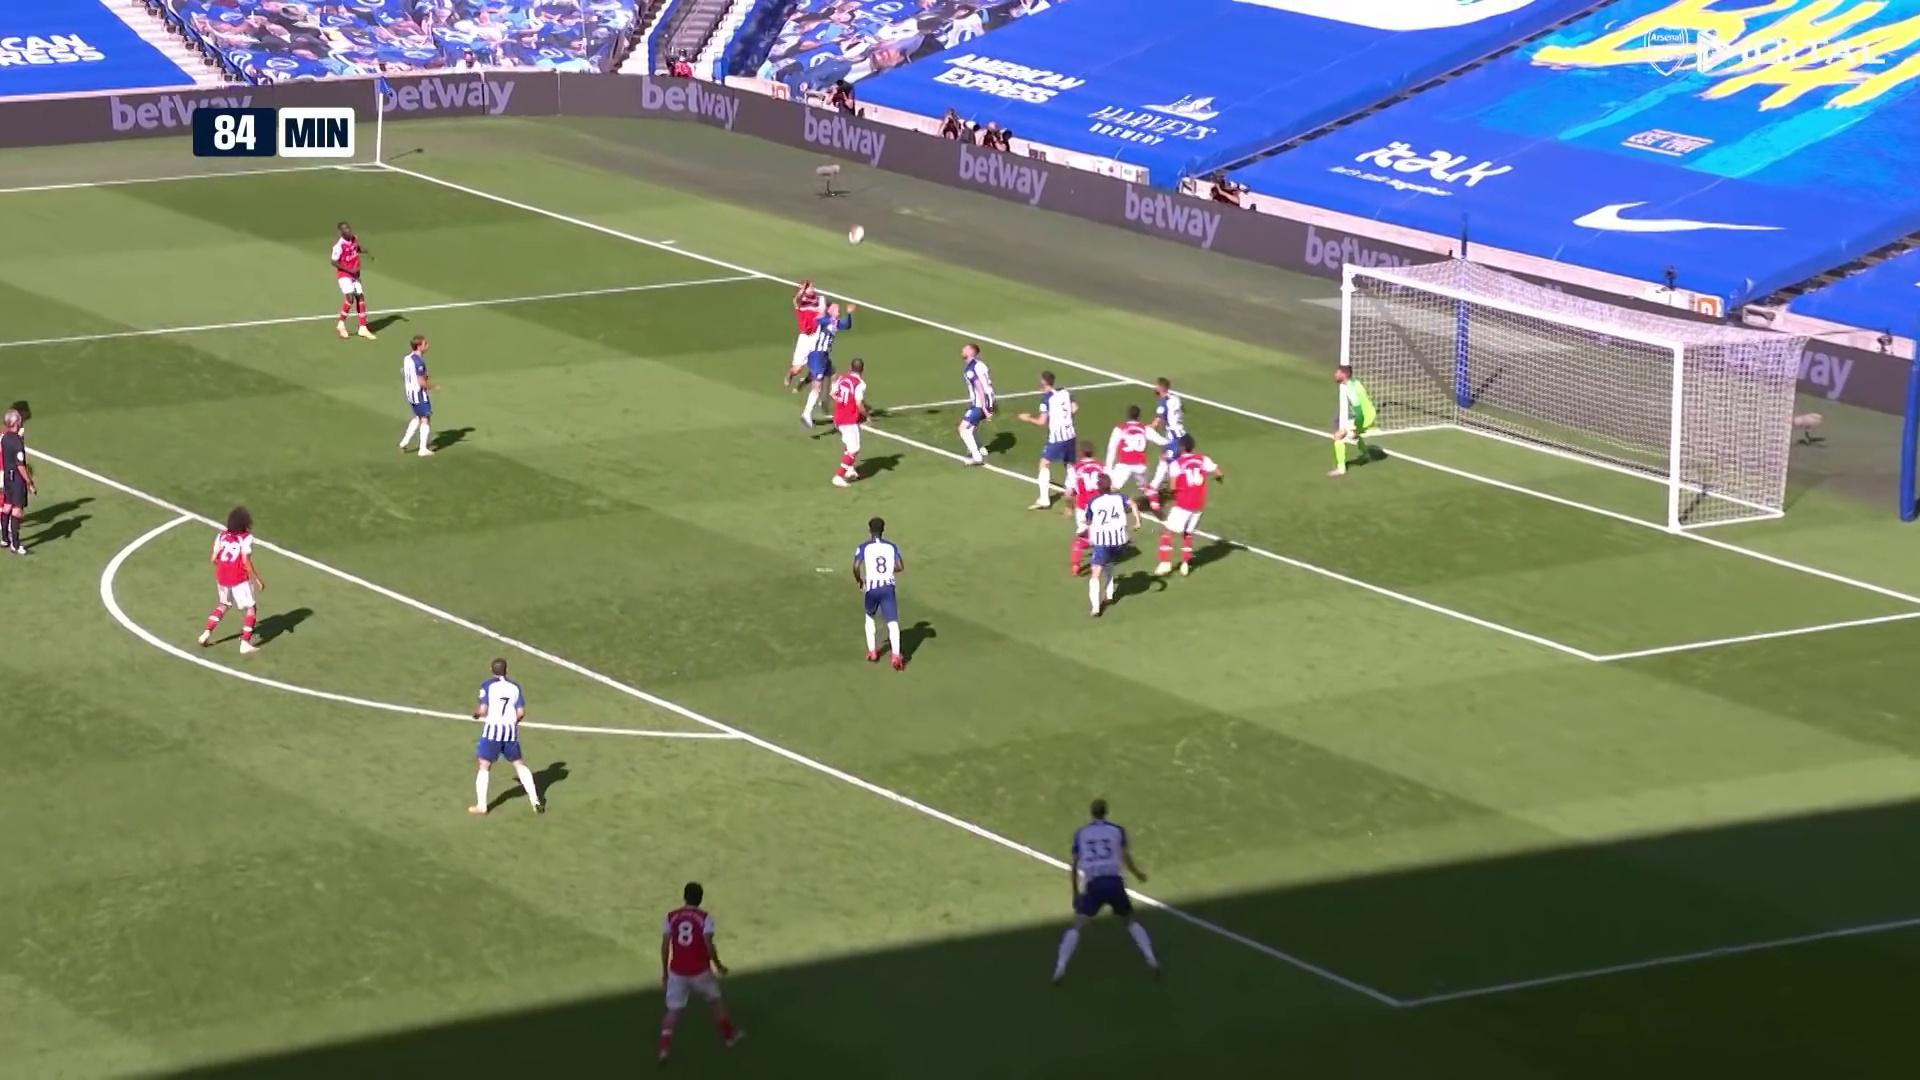ball: (844, 225, 868, 249)
goalkeeper: (1324, 362, 1384, 482)
player: (1051, 792, 1171, 986), (659, 876, 756, 1064), (464, 656, 553, 822), (1145, 436, 1226, 587), (197, 503, 274, 660), (849, 518, 915, 678), (1076, 470, 1143, 618), (1032, 367, 1096, 517), (1107, 404, 1158, 576), (823, 353, 879, 491), (1063, 437, 1117, 578), (329, 221, 382, 343), (1148, 375, 1202, 490), (783, 277, 835, 393), (799, 300, 843, 430), (401, 333, 446, 460), (961, 342, 1004, 467), (0, 399, 32, 537)
referee: (0, 408, 38, 556)
